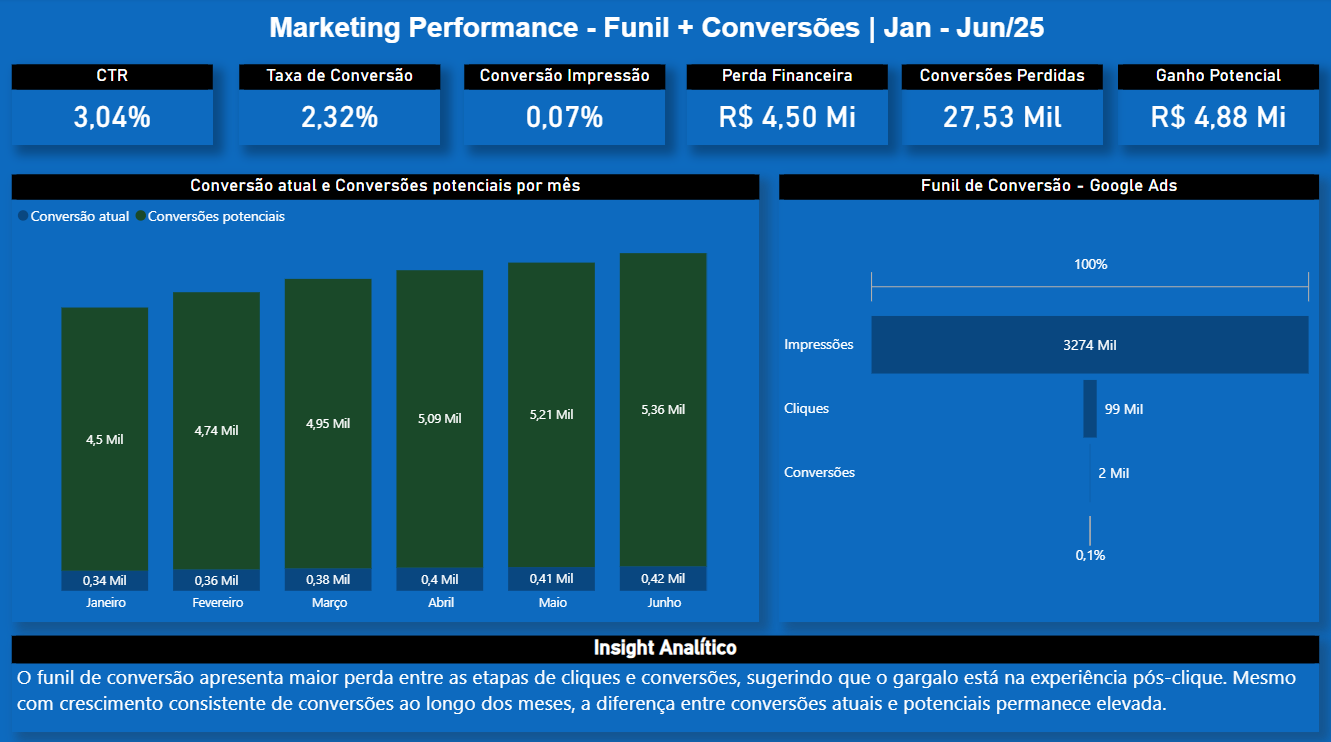

What the dashboard file says about the page in this screenshot:
{"tool":"powerbi","page":{"name":"Funil + Conversões","canvas":[1280,720],"ordinal":3},"visuals":[{"type":"card","title":"CTR","fields":{"Values":["Medidas.CTR"]},"box":[13.2,64.7,193,76.7],"z":0},{"type":"card","title":"Taxa de Conversão","fields":{"Values":["Medidas.Taxa de conversão"]},"box":[231.3,64.7,193,76.7],"z":1000},{"type":"card","title":"Conversão Impressão","fields":{"Values":["Medidas.Conversão Geral"]},"box":[447,64.7,193,76.7],"z":2000},{"type":"textbox","box":[255.3,9.6,768.2,52.7],"z":3000},{"type":"columnChart","title":"Conversão atual e Conversões potenciais por mês","fields":{"Category":["campaigns.month"],"Y":["Medidas.Conversão atual","Medidas.Conversões potenciais"]},"box":[13.2,170.2,716.7,429.1],"z":4000},{"type":"card","title":"Conversões Perdidas","fields":{"Values":["Medidas.Conversões perdidas"]},"box":[866.5,64.7,193,76.7],"z":5000},{"type":"card","title":"Perda Financeira","fields":{"Values":["Medidas.Perda"]},"box":[660.4,64.7,193,76.7],"z":6000},{"type":"card","title":"Ganho Potencial","fields":{"Values":["Medidas.Ganho Potencial"]},"box":[1073.9,64.7,193,76.7],"z":7000},{"type":"funnel","title":"Funil de Conversão - Google Ads","fields":{"Category":["Funil.Etapa"],"Y":["Funil.Valor Funil"]},"box":[749.1,170.2,517.8,429.1],"z":8000},{"type":"textbox","title":"Insight Analítico","box":[13.2,612.4,1253.6,92.3],"z":9000}]}

Visuals, with their boxes in screenshot pixels (x1, y1, x2, y2), scaled from the page's 1280x720 canvas onto the 1331x742 screenshot:
"CTR" card: [x1=14, y1=67, x2=214, y2=146]
"Taxa de Conversão" card: [x1=241, y1=67, x2=441, y2=146]
"Conversão Impressão" card: [x1=465, y1=67, x2=666, y2=146]
textbox: [x1=265, y1=10, x2=1064, y2=64]
"Conversão atual e Conversões potenciais por mês" columnChart: [x1=14, y1=175, x2=759, y2=618]
"Conversões Perdidas" card: [x1=901, y1=67, x2=1102, y2=146]
"Perda Financeira" card: [x1=687, y1=67, x2=887, y2=146]
"Ganho Potencial" card: [x1=1117, y1=67, x2=1317, y2=146]
"Funil de Conversão - Google Ads" funnel: [x1=779, y1=175, x2=1317, y2=618]
"Insight Analítico" textbox: [x1=14, y1=631, x2=1317, y2=726]
